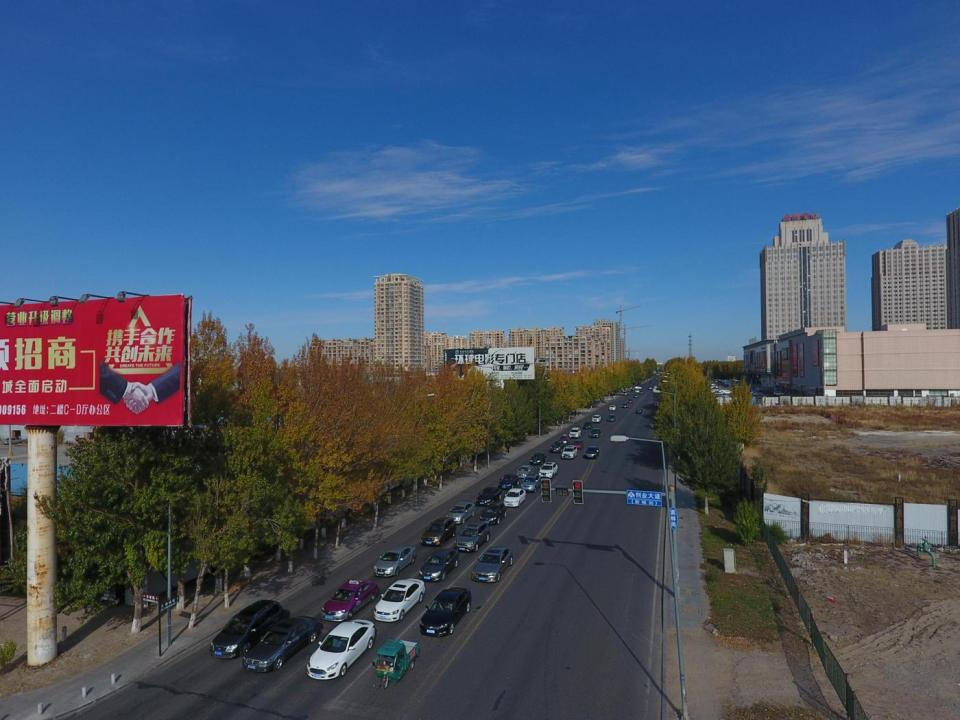car: (242, 614, 320, 672), (209, 599, 282, 659), (306, 619, 375, 681), (420, 586, 471, 636), (374, 578, 426, 625), (322, 579, 378, 622), (471, 546, 512, 583), (373, 546, 417, 577), (418, 548, 460, 580), (453, 521, 490, 551), (420, 516, 456, 546), (445, 500, 475, 524), (479, 502, 506, 525), (474, 487, 501, 506), (503, 488, 526, 507), (520, 474, 541, 493), (538, 461, 558, 478), (498, 474, 520, 488), (515, 465, 532, 480), (561, 445, 577, 459), (584, 446, 600, 459), (530, 452, 546, 464), (550, 441, 564, 452), (569, 427, 581, 438), (589, 427, 601, 438), (572, 439, 583, 448), (559, 435, 569, 444), (583, 421, 593, 429), (591, 415, 602, 422), (607, 414, 615, 422), (711, 390, 721, 395), (774, 391, 785, 395), (758, 394, 769, 398), (751, 393, 762, 397), (718, 395, 729, 399), (713, 391, 723, 395), (723, 390, 732, 394), (708, 386, 717, 390), (609, 405, 616, 410), (753, 393, 764, 396), (716, 394, 727, 397), (710, 389, 718, 393), (635, 409, 641, 414), (653, 401, 659, 406), (622, 403, 627, 408), (634, 386, 642, 389), (628, 399, 632, 404), (634, 394, 638, 398), (720, 389, 728, 391), (622, 392, 626, 395), (631, 388, 635, 391), (646, 387, 651, 389), (756, 388, 761, 390), (638, 391, 642, 393), (635, 390, 639, 392), (653, 388, 656, 390), (654, 386, 657, 388), (649, 382, 652, 384), (627, 392, 629, 394), (651, 379, 653, 381), (655, 378, 658, 379), (656, 380, 658, 381)
